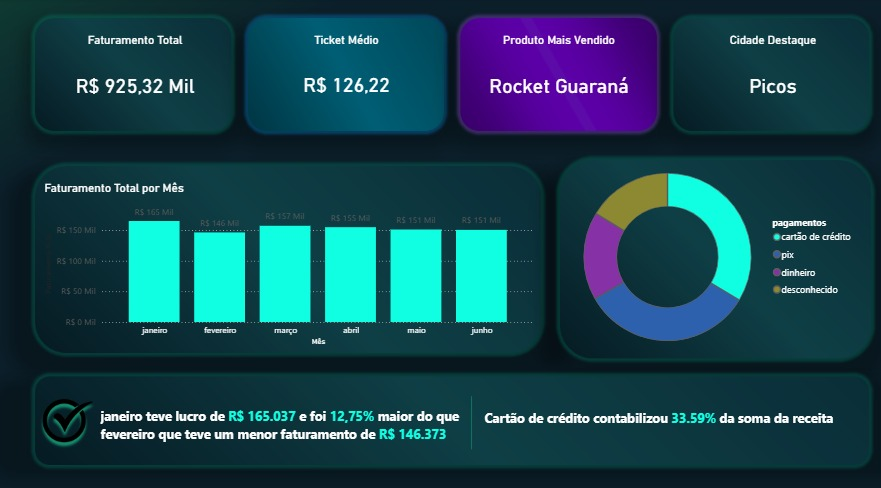

This screenshot's page, from the dashboard's own definition file:
{"tool":"powerbi","page":{"name":"Dashboard","canvas":[1280,720],"ordinal":1},"visuals":[{"type":"card","title":"Faturamento Total","fields":{"Values":["vendas.Faturamento Total"]},"box":[62.1,50.2,272.1,130],"z":0},{"type":"donutChart","fields":{"Category":["vendas.payment_method"],"Y":["Sum(vendas.revenue)"]},"box":[811.1,192.3,436.6,364.3],"z":1000},{"type":"columnChart","fields":{"Category":["vendas.order_date.Variation.Hierarquia de datas.Mês"],"Y":["vendas.Faturamento Total"]},"box":[62.2,264.6,718.6,242.9],"z":2000},{"type":"card","title":"Produto Mais Vendido","fields":{"Values":["Min(produtcs.product_name)"]},"box":[675.2,50.6,271.8,130.1],"z":3000},{"type":"card","title":"Ticket Médio","fields":{"Values":["vendas.Ticket Médio"]},"box":[367.2,50.6,273.3,128.7],"z":4000},{"type":"card","title":"Cidade Destaque","fields":{"Values":["Min(customers.city)"]},"box":[984.6,50.6,271.8,130.1],"z":5000},{"type":"textbox","box":[143.1,519,543.6,186.5],"z":6000},{"type":"textbox","box":[698.3,589.9,549.4,65.1],"z":7000}]}

Visuals, with their boxes in screenshot pixels (x1, y1, x2, y2), scaled from the page's 1280x720 canvas onto the 881x488 screenshot:
"Faturamento Total" card: bbox=(43, 34, 230, 122)
donutChart - vendas.payment_method x Sum(vendas.revenue): bbox=(558, 130, 859, 377)
columnChart - vendas.order_date.Variation.Hierarquia de datas.Mês x vendas.Faturamento Total: bbox=(43, 179, 537, 344)
"Produto Mais Vendido" card: bbox=(465, 34, 652, 122)
"Ticket Médio" card: bbox=(253, 34, 441, 122)
"Cidade Destaque" card: bbox=(678, 34, 865, 122)
textbox: bbox=(98, 352, 473, 478)
textbox: bbox=(481, 400, 859, 444)
